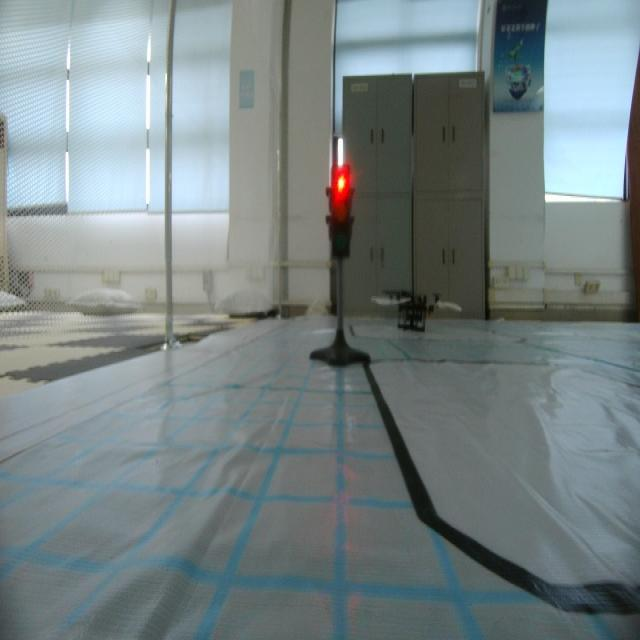red: (324, 160, 357, 267)
